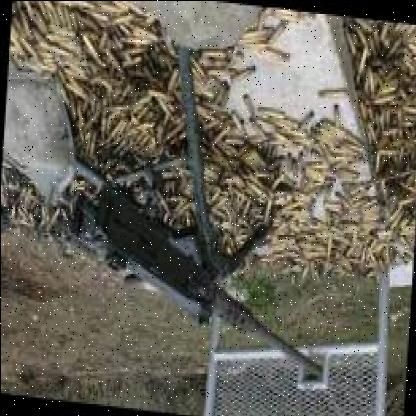rifle: (78, 166, 328, 382)
